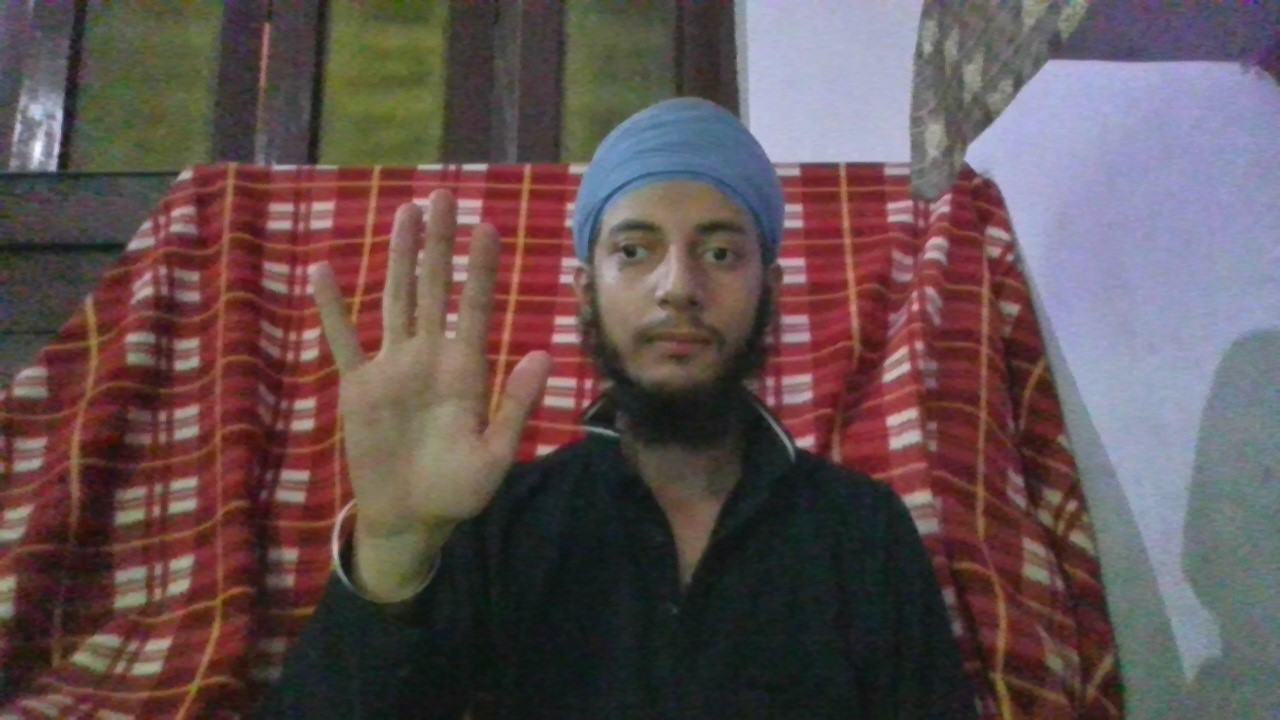Hello: (306, 186, 555, 536)
